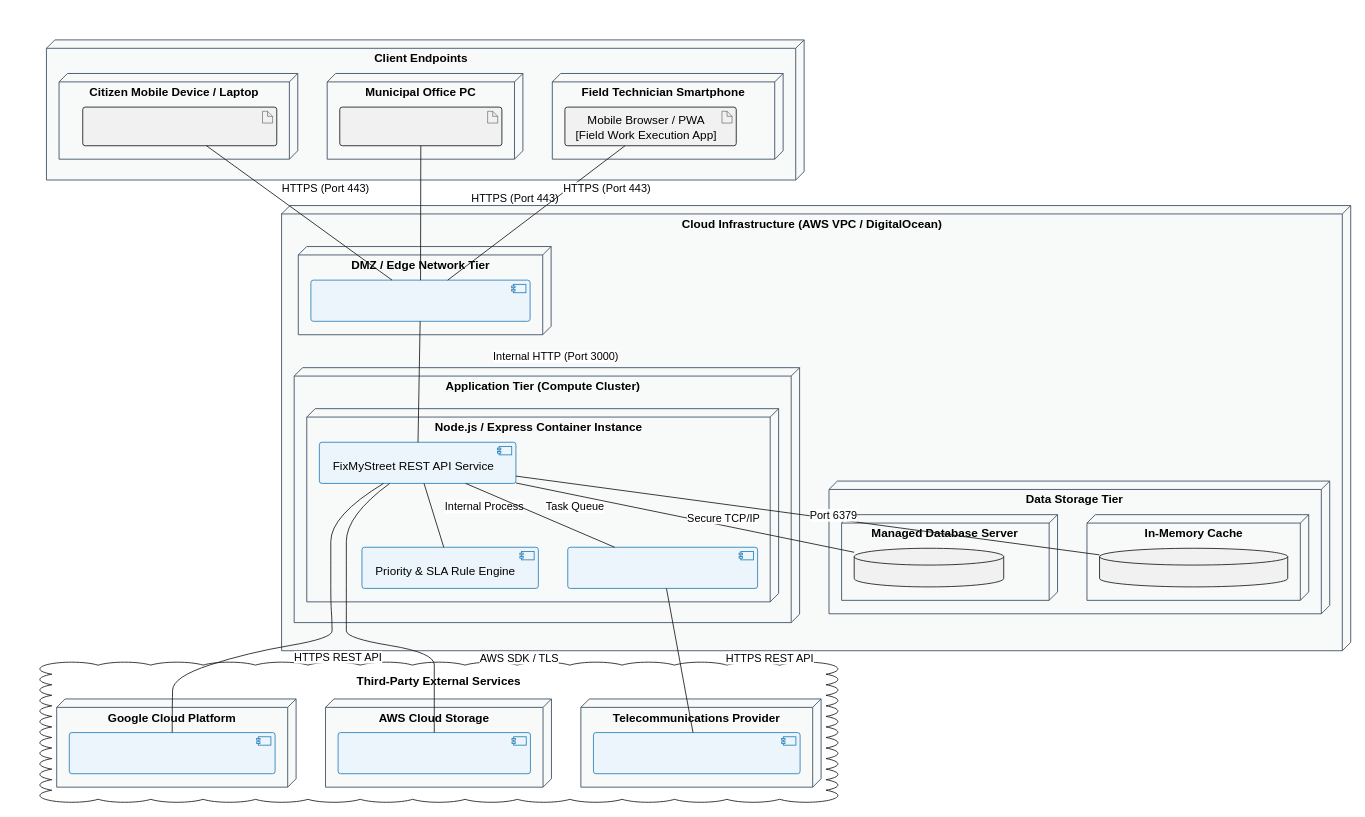
This 1365x817 diagram has some shape labels left out. The centre of each missing label's shape, as x and y in pixels:
"Amazon S3 Encrypted Bucket (Evidence Photos)" belongs at [433,753].
"Desktop Browser [Officer & Admin Console]" belongs at [420,126].
"Google Maps API Service (Reverse Geocode & Directions)" belongs at [171,753].
"Notification Dispatch Worker" belongs at [662,567].
"PostgreSQL with PostGIS (Port 5432)" belongs at [928,567].
"Redis Cache / Message Broker (Port 6379)" belongs at [1193,567].
"Reverse Proxy & TLS Termination (Nginx Load Balancer)" belongs at [420,300].
"Twilio SMS & SendGrid Gateway" belongs at [696,753].
"Web Browser (Chrome/Safari) [Citizen SPA Client]" belongs at [179,126].
